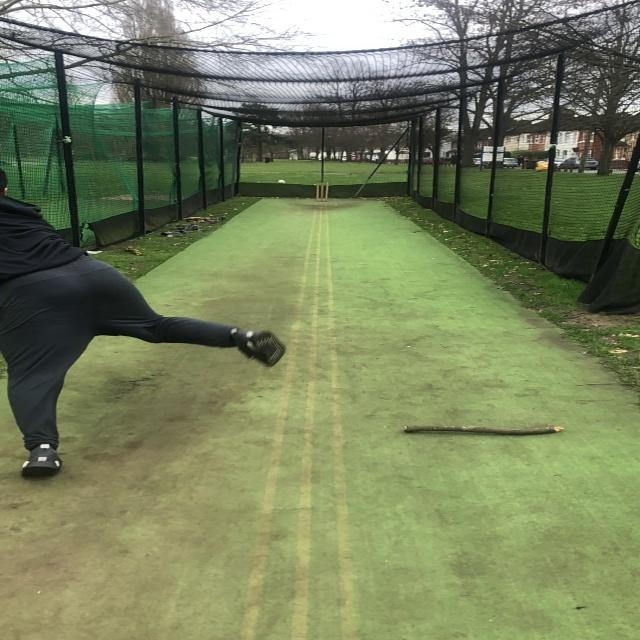ball: (277, 180, 286, 185)
